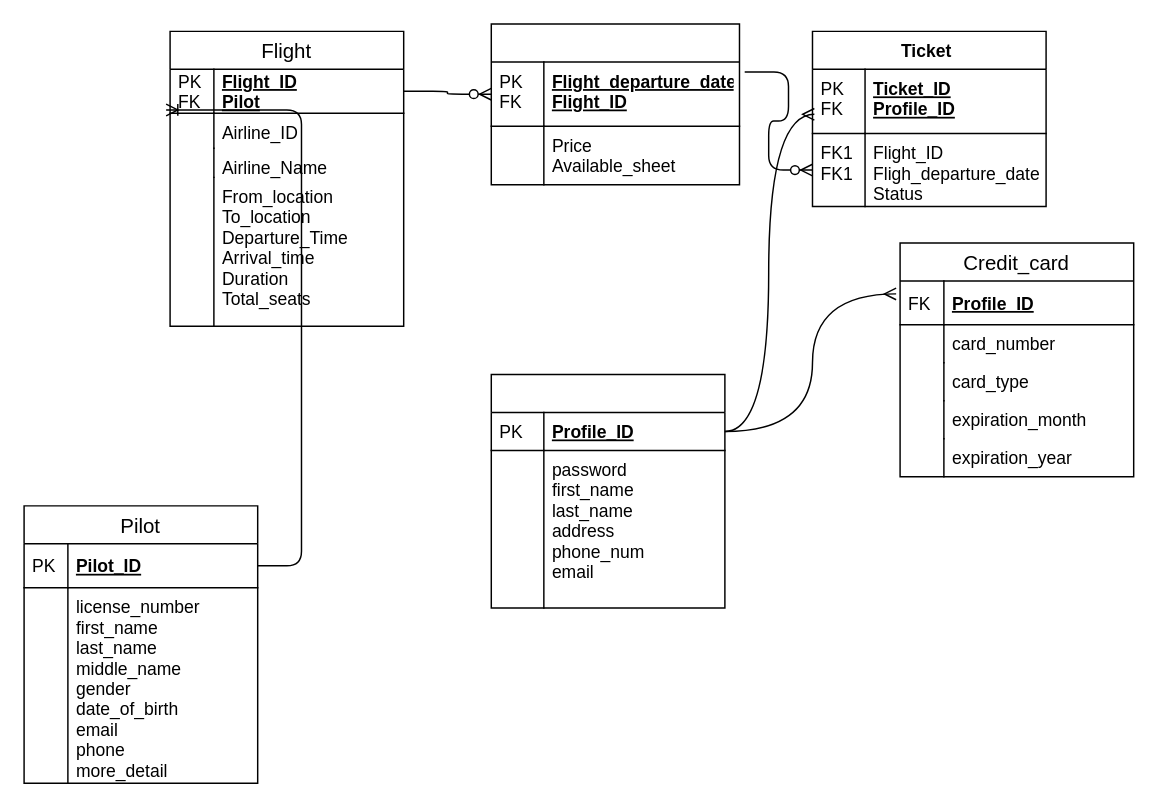
The diagram is 1158 pixels wide and 807 high, and some of its shapes have lost their labels. The shapes that lost their labels are listed below. From the top down, each one's box as (x1, y1, x2, y2) in pixels, then its label:
(490, 23, 739, 185): Flight_Detail
(490, 373, 725, 608): Passenger
